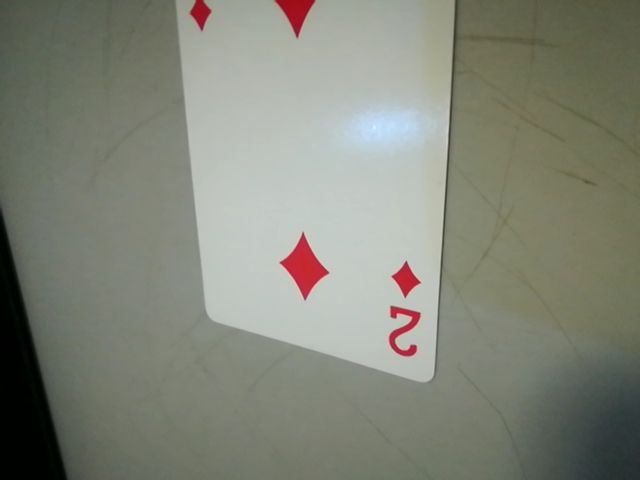fk 2: (373, 255, 436, 370)
